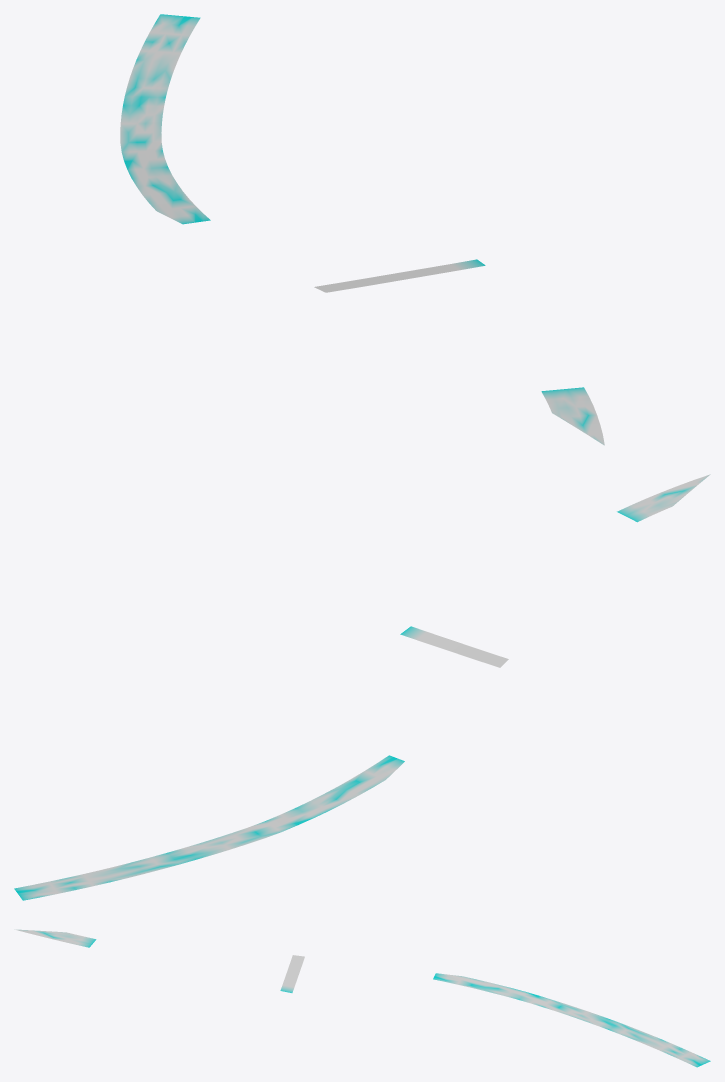
The picture shows the model from 3 angles, top to bottom: view 1: azimuth 30°, elevation 25°; view 2: azimuth 150°, elevation 25°; view 3: azimuth 270°, elevation 25°; orthographic projection. The views are drawn at different scales.
Parts seen in each view (by area): view 1: SpaceCenter_Long3_GenerateRoad_Asphalt_PCGMesh_Decal_Mesh_x1; view 2: SpaceCenter_Long3_GenerateRoad_Asphalt_PCGMesh_Decal_Mesh_x1; view 3: SpaceCenter_Long3_GenerateRoad_Asphalt_PCGMesh_Decal_Mesh_x1.
Part boxes in pixels (x1,y1,x2,y2): SpaceCenter_Long3_GenerateRoad_Asphalt_PCGMesh_Decal_Mesh_x1: (120,14,604,445); SpaceCenter_Long3_GenerateRoad_Asphalt_PCGMesh_Decal_Mesh_x1: (14,474,710,900); SpaceCenter_Long3_GenerateRoad_Asphalt_PCGMesh_Decal_Mesh_x1: (14,929,710,1067).
Size of the model in its own units: 2068 by 478 by 229.
